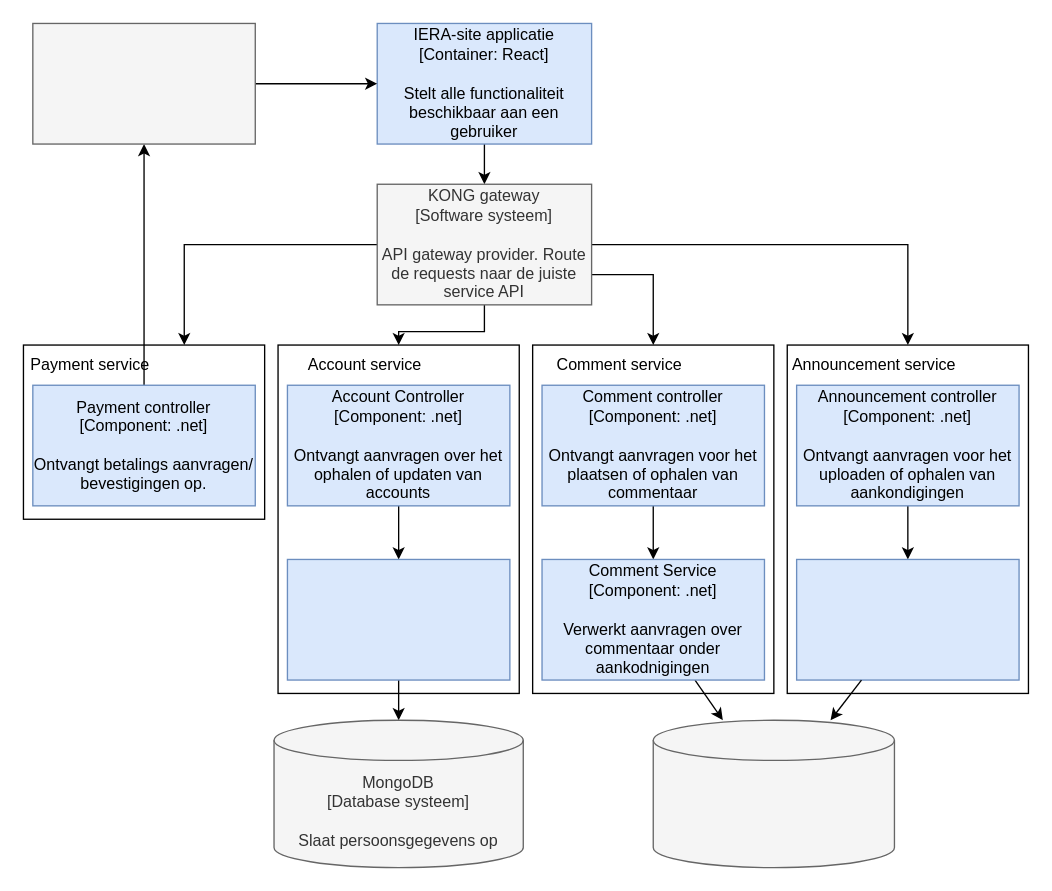
The diagram is 1052 pixels wide and 891 high, and some of its shapes have lost their labels. The shapes that lost their labels are listed below. From the top down, each one's centre as x and y in pixels, then its label:
At [143,83]: "Payment provider [Software systeem] Voert betalings functionaliteitt uit.".
At [398,619]: "Account Service [Component: .net] Verwerkt aanvragen over accounts".
At [907,619]: "Announcement Service [Component: .net] Verwerkt aanvragen over aankondigingen".
At [773,793]: "Firestore [Database systeem] Slaat berichten als comments en aankondigingen op".
